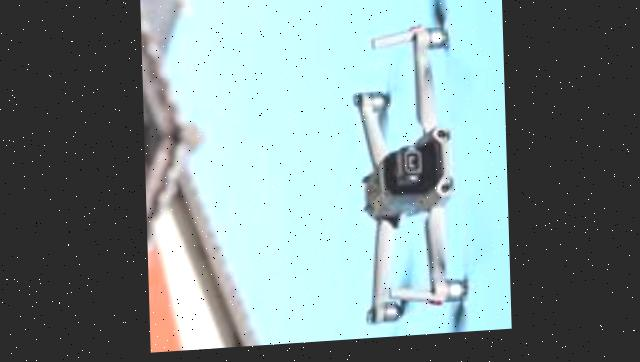drone: (337, 0, 476, 344)
